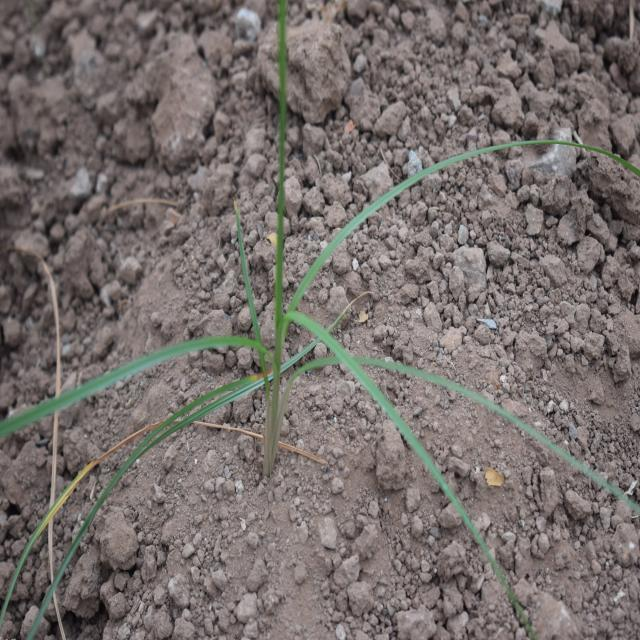sedge: (36, 116, 567, 567)
